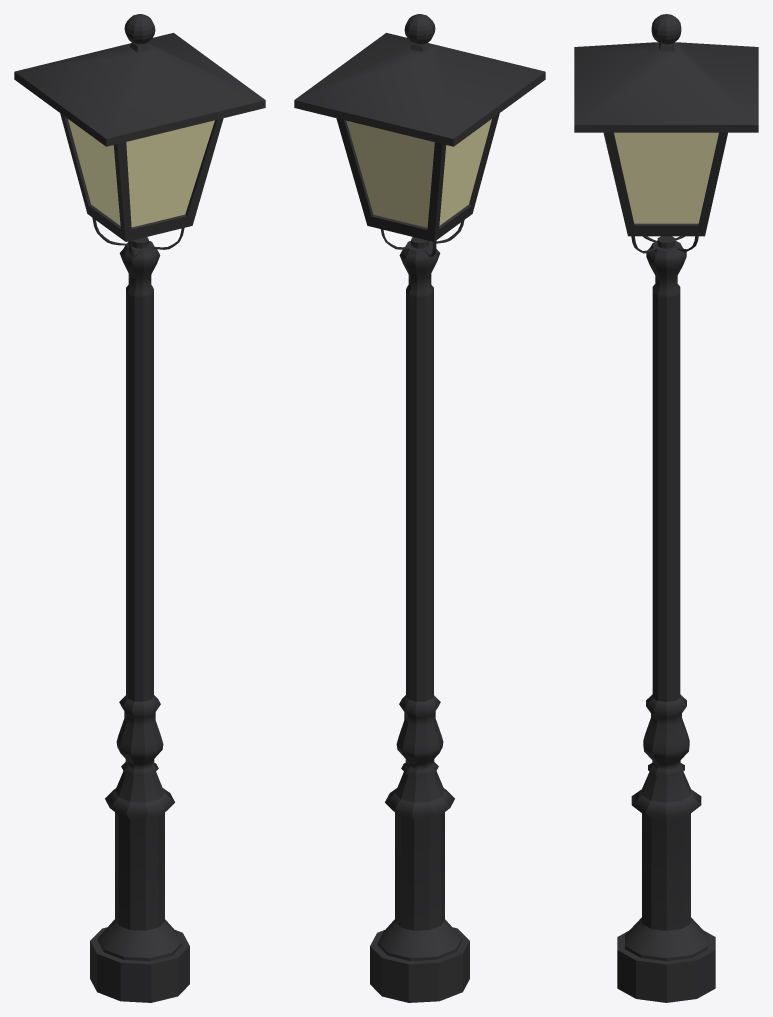
The model's file is street_light.fbx.
The picture shows the model from 3 angles, left to right: view 1: azimuth 30°, elevation 25°; view 2: azimuth 150°, elevation 25°; view 3: azimuth 270°, elevation 25°; orthographic projection.
Visible parts, largest first — view 1: streetlight; view 2: streetlight; view 3: streetlight.
Boxes of the visible parts, x1,y1,x2,y2 form: streetlight: (14, 14, 265, 1002); streetlight: (294, 14, 545, 1002); streetlight: (574, 14, 758, 1002).
Bounding box in the file's own units: 15.6 × 90.35 × 15.6.
